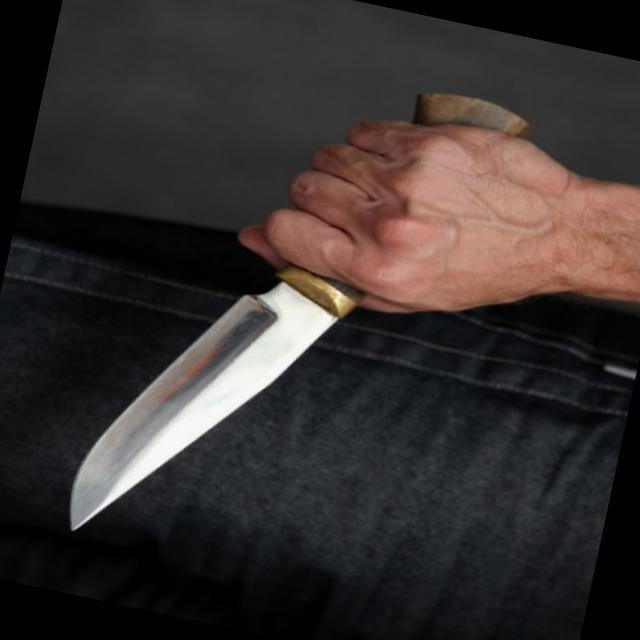knife: (38, 98, 460, 606)
